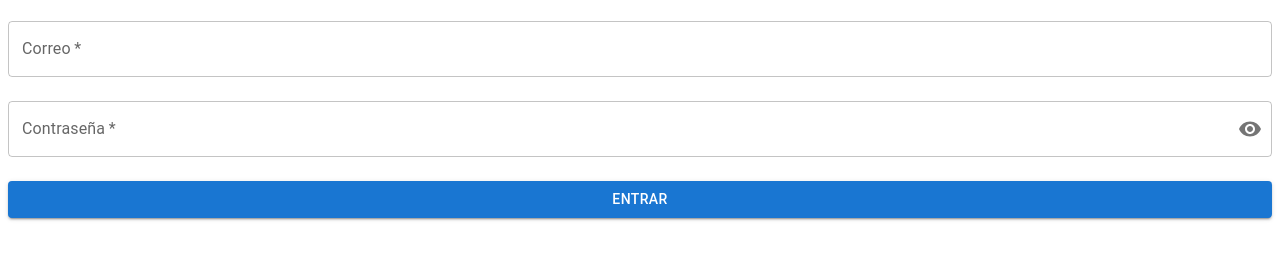
Test: LoginForm › muestra mensaje de error si el login falla
This screenshot has width=1280, height=271.
Type "test@test.com" into the field labelled "Correo *" at point(640, 49), box [8,21,1272,77]
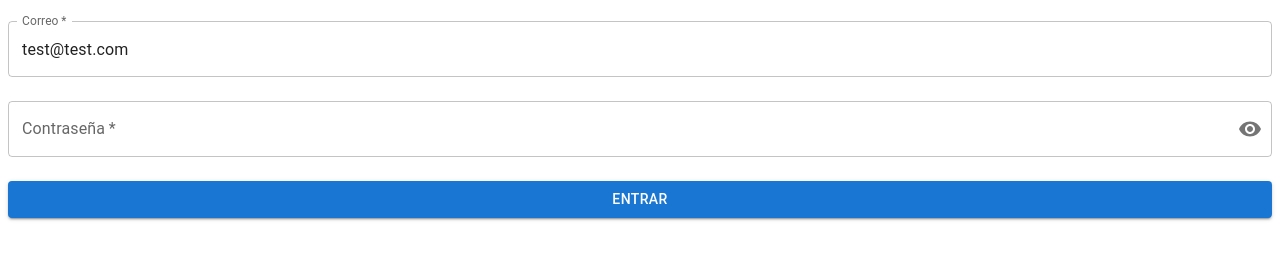
Type "123456" into the password field labelled "Contraseña *" at point(615, 129), box [8,101,1222,157]
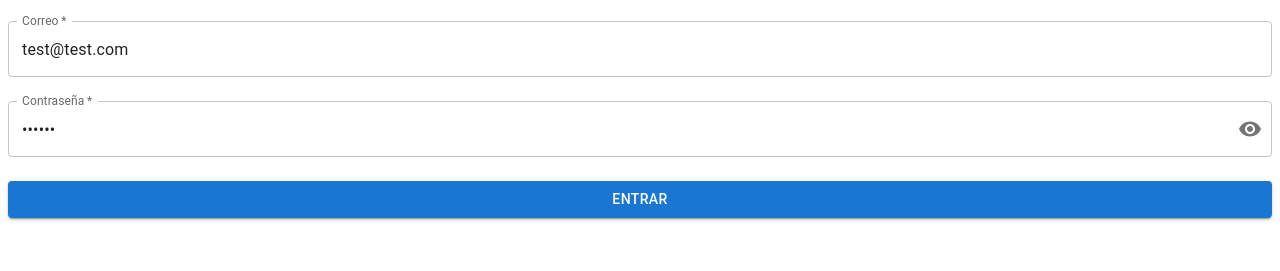
Click the button "Entrar" at point(640, 199), box [8,181,1272,218]
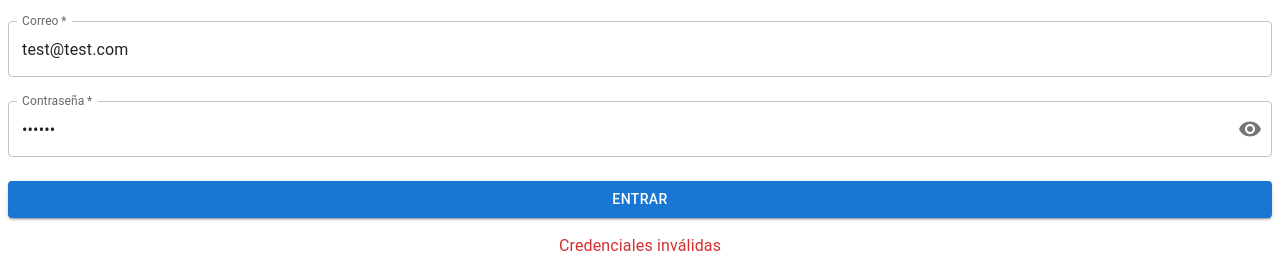
Now the text "Credenciales inválidas" is shown, box [559,236,721,254]
